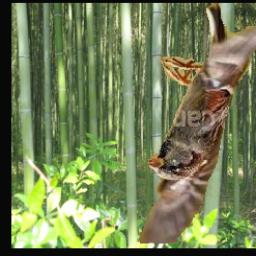Sparrow: (140, 4, 256, 244)
